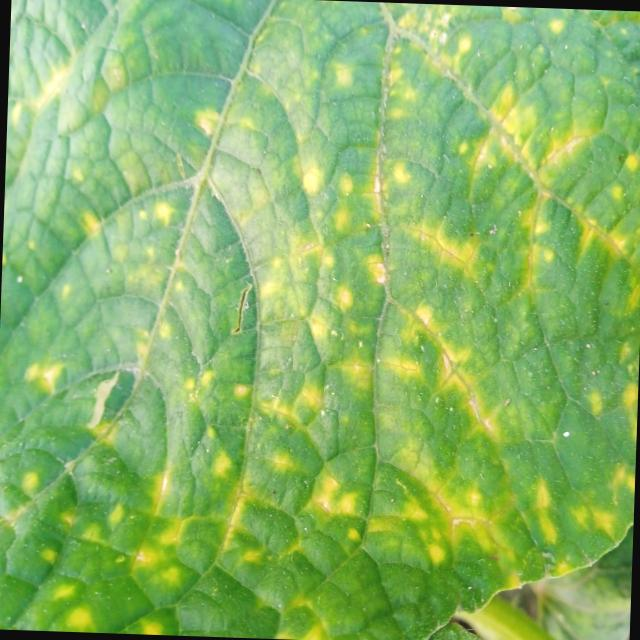cucumber_downy: (0, 0, 640, 633)
